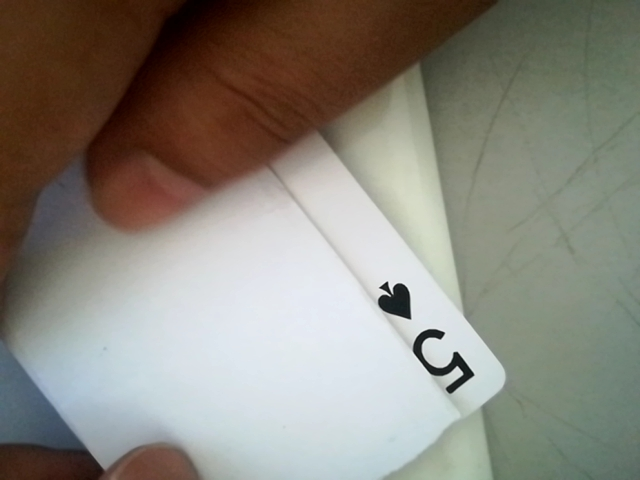ht 5: (371, 270, 497, 406)
